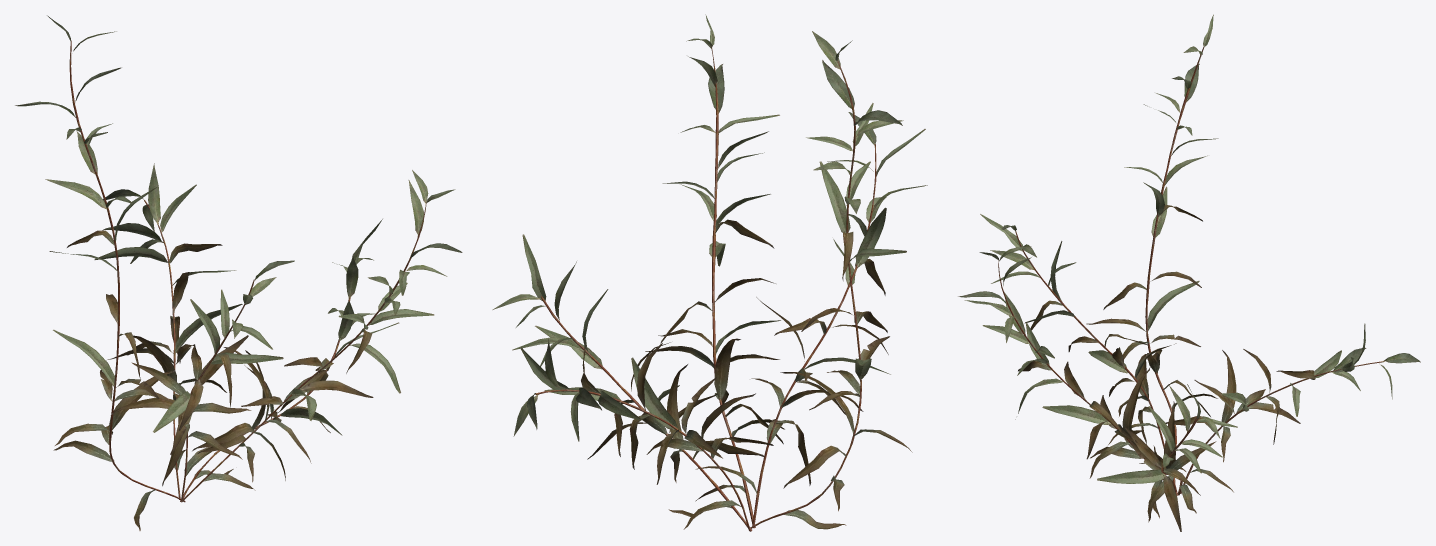
Rendered from shrub_02~0.glb.
3 renders of one model, left to right at view 1: azimuth 30°, elevation 25°; view 2: azimuth 150°, elevation 25°; view 3: azimuth 270°, elevation 25°, orthographic. The views are drawn at different scales.
Parts seen in each view (by area): view 1: shrub_02_a; view 2: shrub_02_a; view 3: shrub_02_a.
Boxes of the visible parts, box(x1,y1,x2,y2) form: shrub_02_a: box(15, 15, 462, 530); shrub_02_a: box(492, 14, 927, 531); shrub_02_a: box(958, 14, 1420, 531).
Bounding box in the file's own units: 1.31 × 1.69 × 1.64.
Materials: 1 (1 with a texture image).
